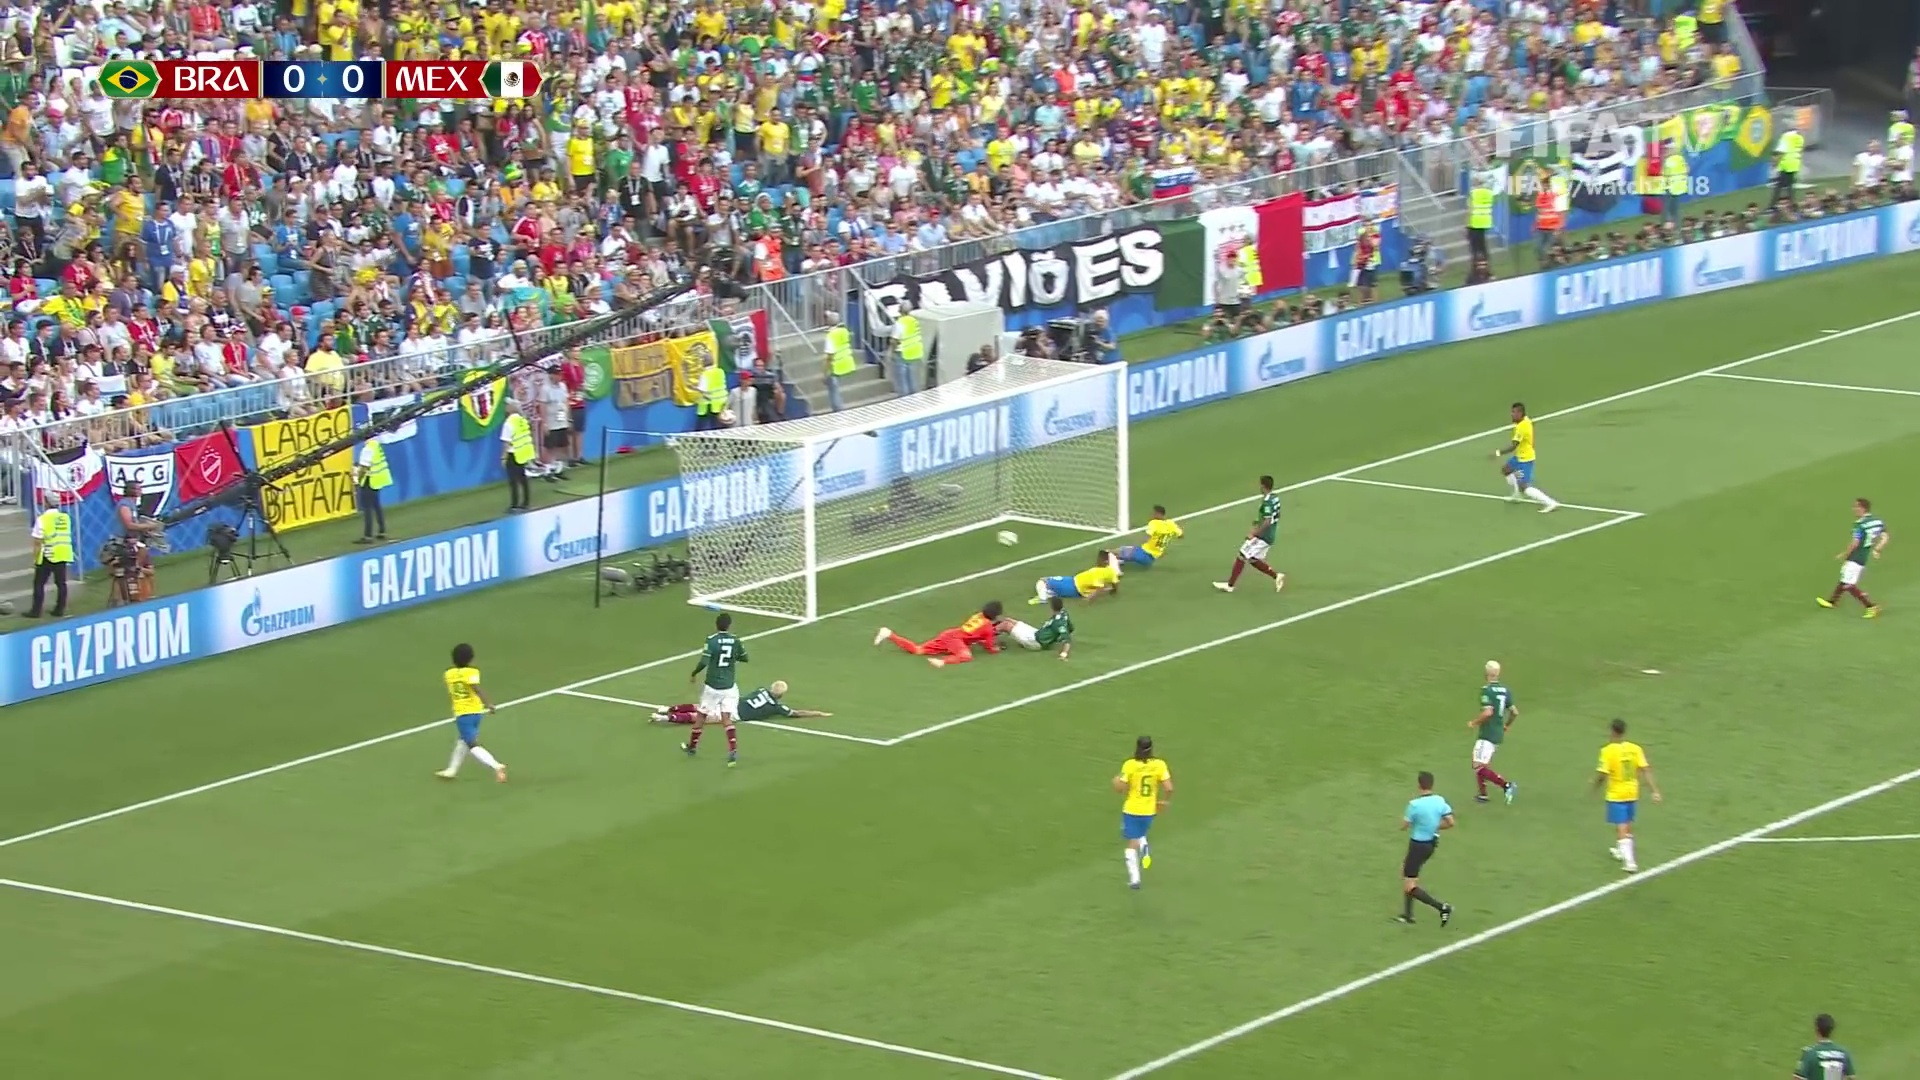ball: (995, 532, 1019, 547)
person: (1593, 719, 1661, 875), (1112, 737, 1175, 890), (438, 644, 505, 780), (1212, 475, 1284, 592), (1821, 499, 1888, 620), (1492, 400, 1559, 514), (876, 602, 1001, 663), (690, 615, 738, 767), (1468, 663, 1517, 804), (652, 680, 830, 717), (997, 598, 1075, 659), (1026, 550, 1119, 597), (1112, 506, 1180, 566), (1797, 1017, 1859, 1080)
